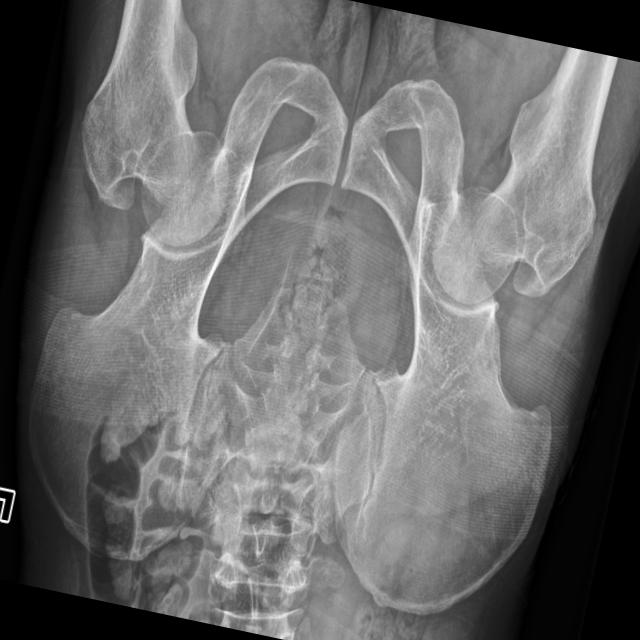normal-left: (80, 0, 228, 244)
normal-right: (430, 45, 617, 303)
